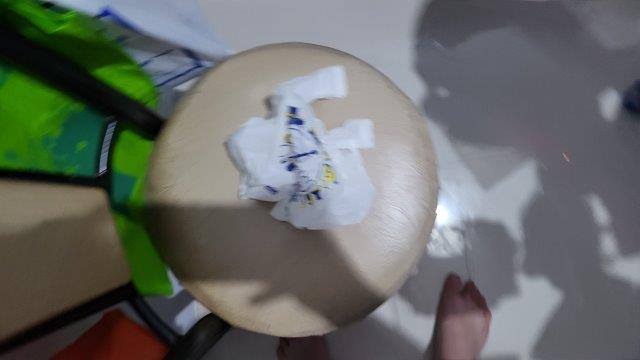plastik: (230, 65, 373, 225)
